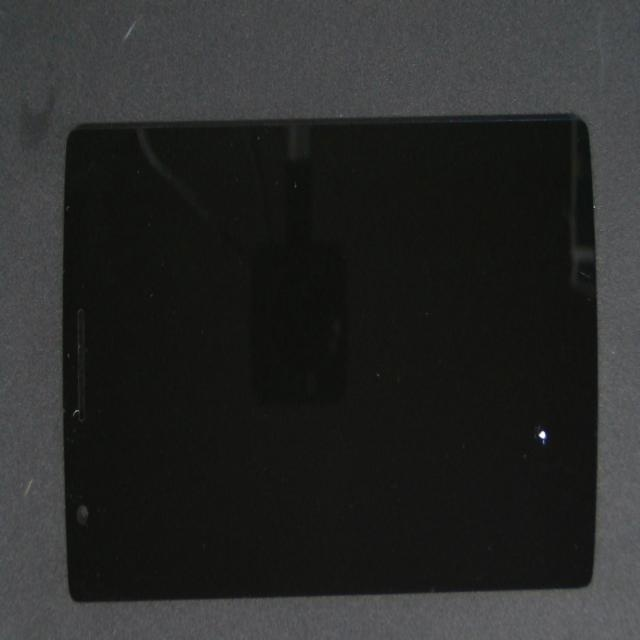stain: (288, 235, 640, 640)
